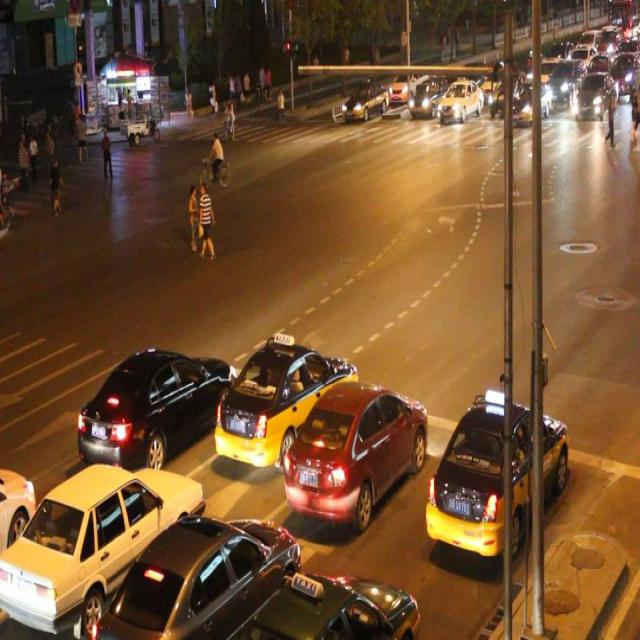car: (1, 455, 202, 640), (95, 509, 299, 640), (422, 391, 570, 555), (282, 375, 428, 522), (77, 342, 238, 469), (213, 331, 361, 468), (244, 564, 420, 640), (0, 460, 40, 560)
